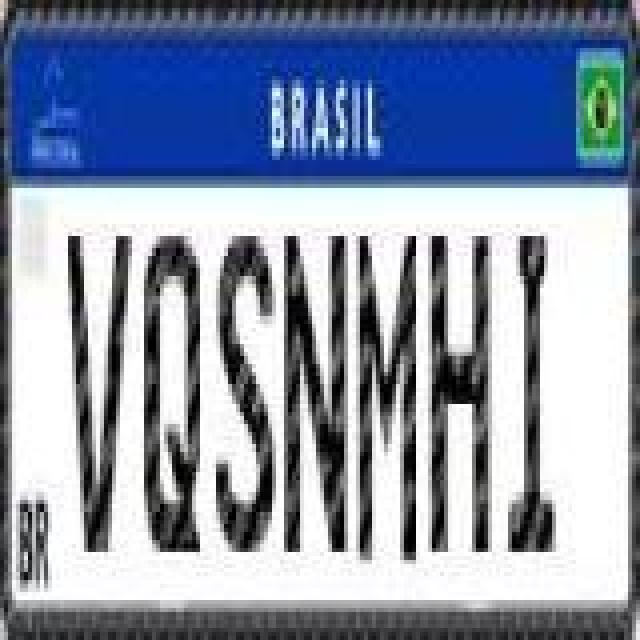H: (428, 230, 492, 554)
I: (506, 230, 558, 554)
M: (358, 232, 418, 568)
N: (282, 224, 350, 560)
Q: (142, 230, 202, 554)
S: (216, 230, 280, 554)
V: (66, 230, 134, 554)
